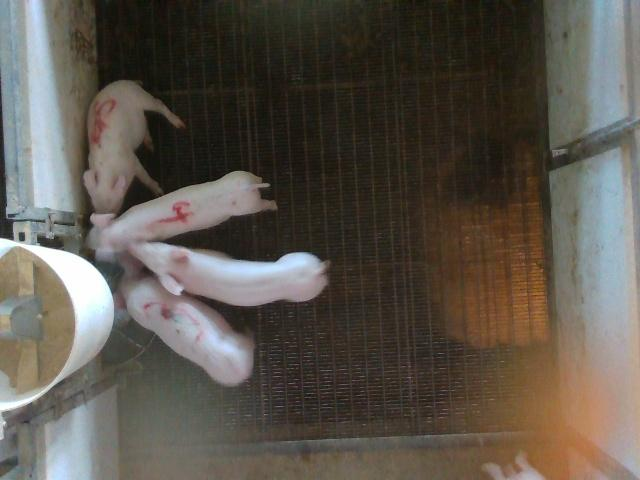pig-3: (120, 276, 255, 386)
pig-4: (88, 171, 276, 259)
pig-5: (84, 80, 185, 213)
